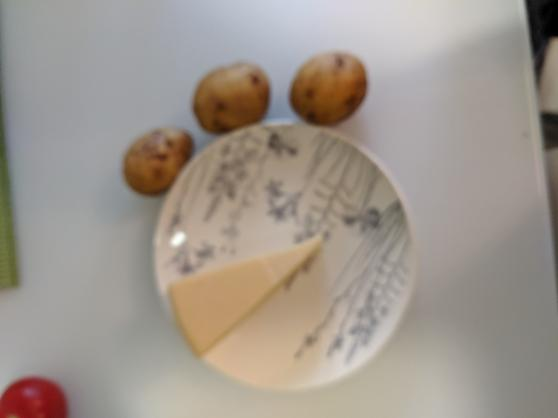cheese: (168, 230, 324, 363)
potato: (290, 50, 371, 129), (190, 63, 274, 134), (122, 126, 192, 195)
tomato: (2, 376, 66, 418)
